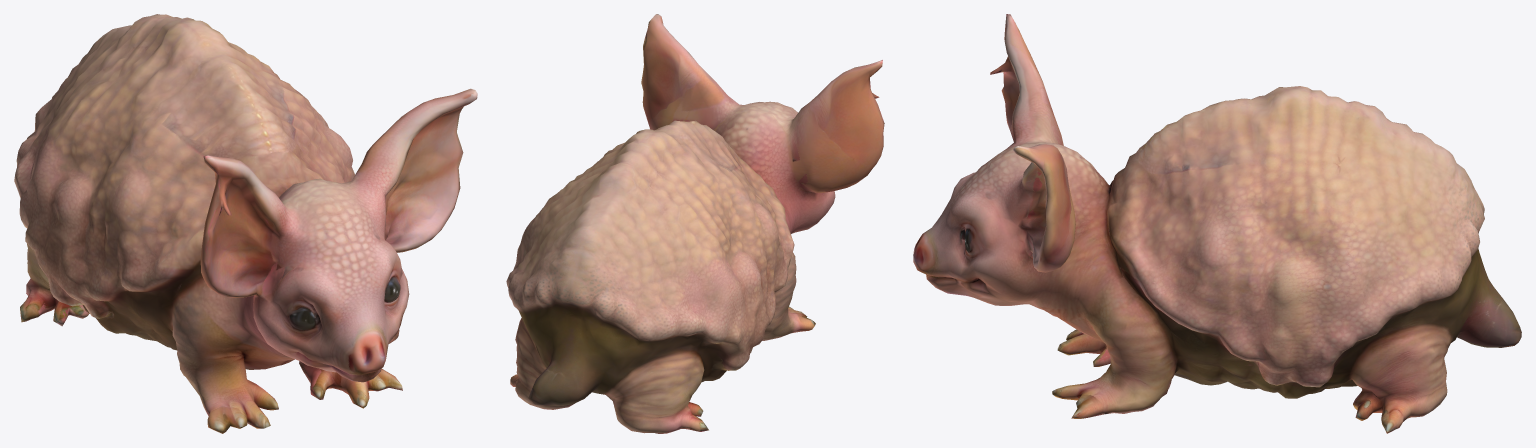
Rendered from shelby.glb.
3 views of the same model, side by side, from view 1: azimuth 30°, elevation 25°; view 2: azimuth 150°, elevation 25°; view 3: azimuth 270°, elevation 25° (orthographic). The views are drawn at different scales.
Size of the model in its own units: 1.01 by 1.1 by 2.
Materials: 1 (1 with a texture image).
